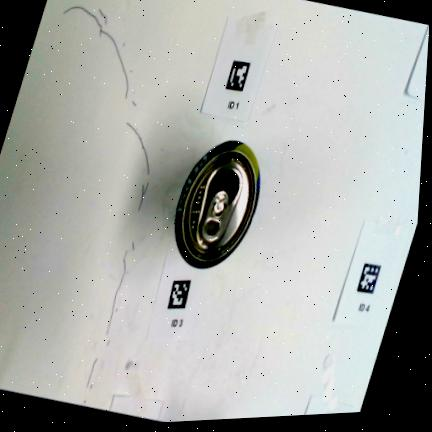can_pepsi_zero: (174, 140, 260, 268)
